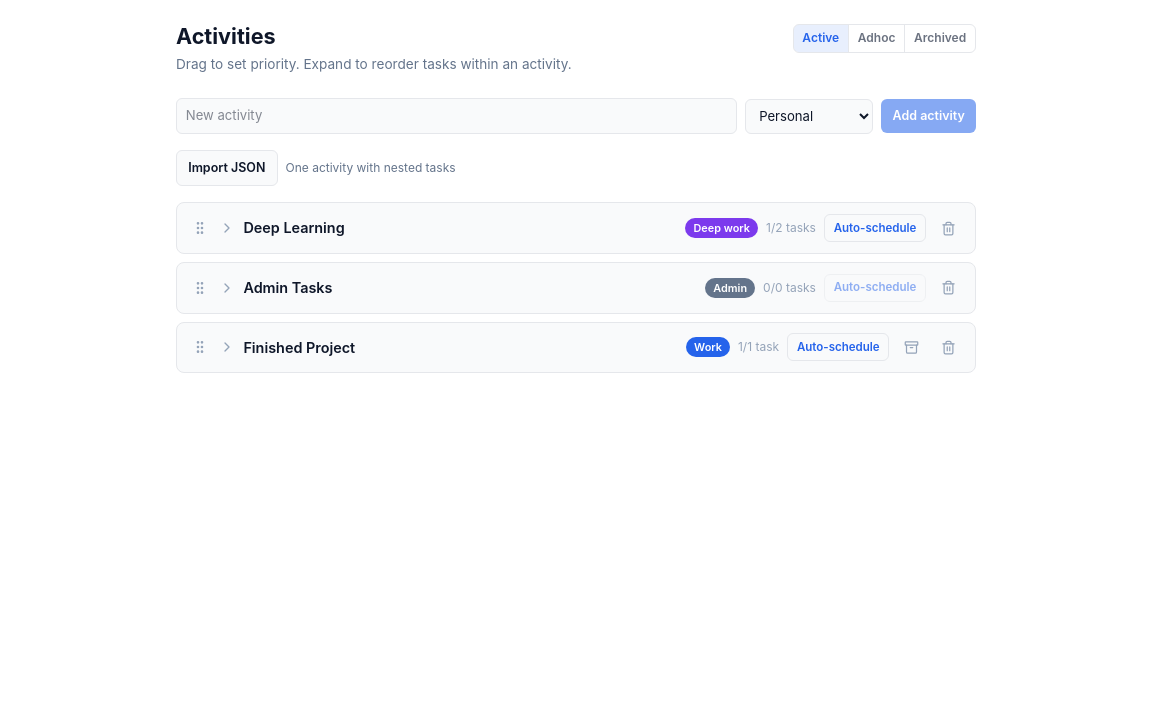
Test: ActivitiesPage › disables confirm when preview reports unplaced tasks
Click the button with aria-label "Auto-schedule Deep Learning" at (875, 228), box [824,214,926,242]
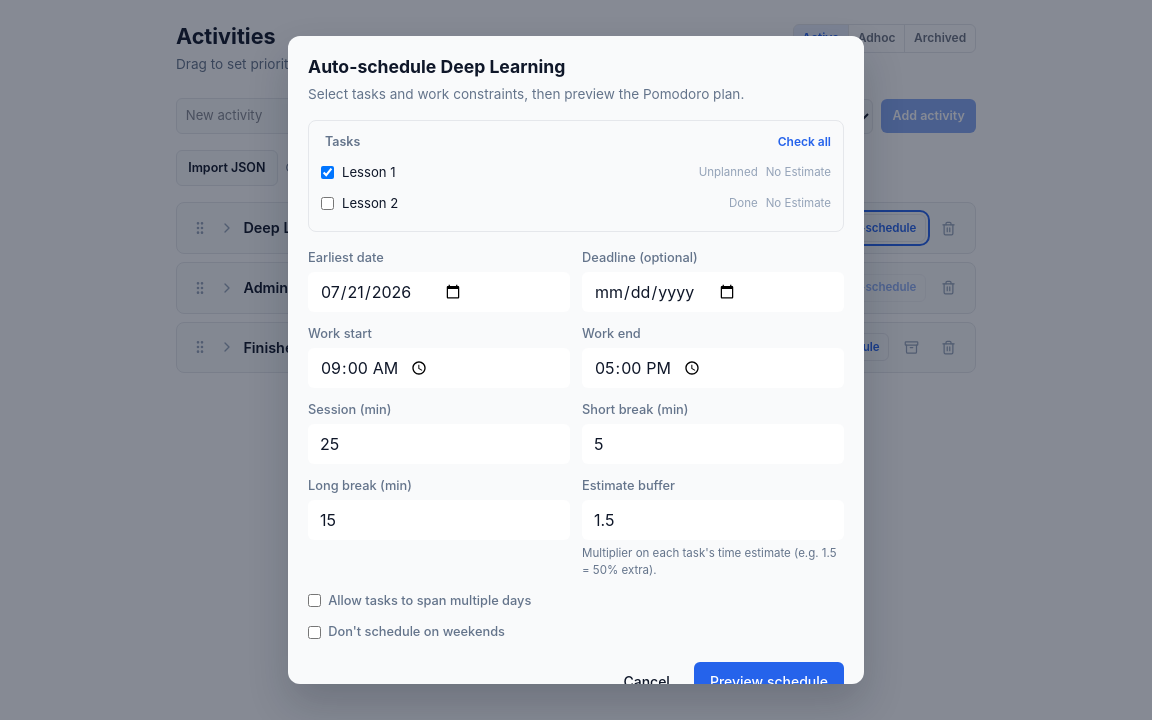
Click the button "Preview schedule" at (769, 682), box [694,662,844,702]
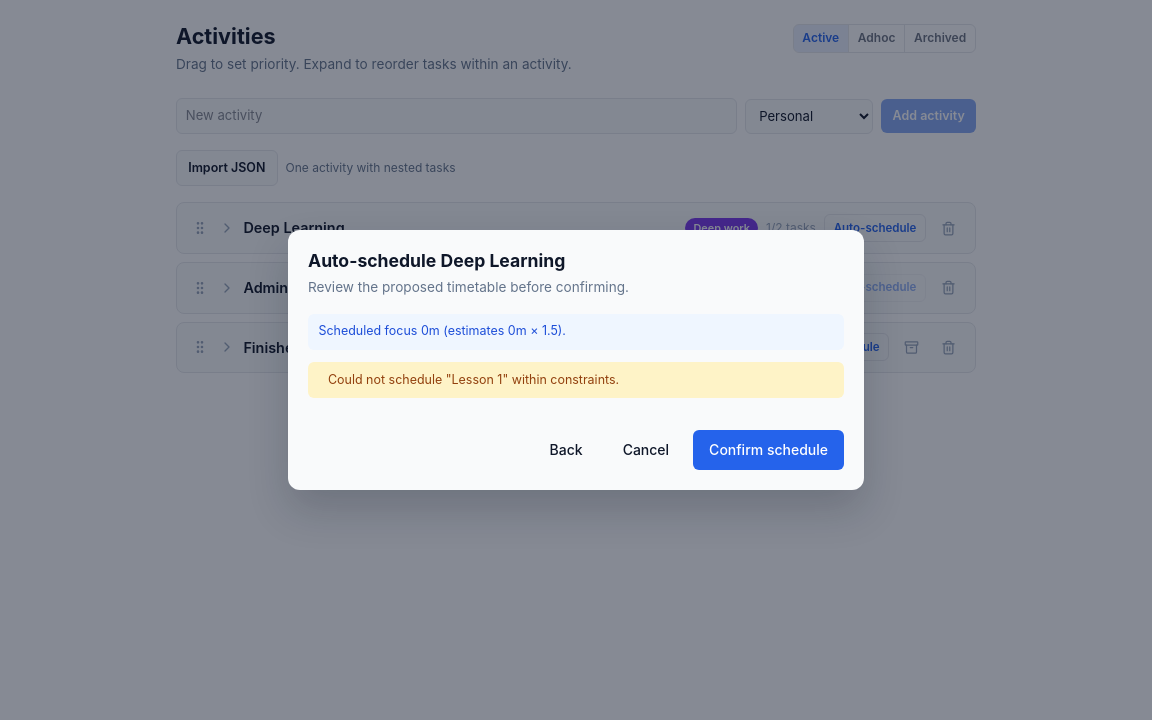
Expected: the button "Confirm schedule" is disabled, [693,430,844,470]
